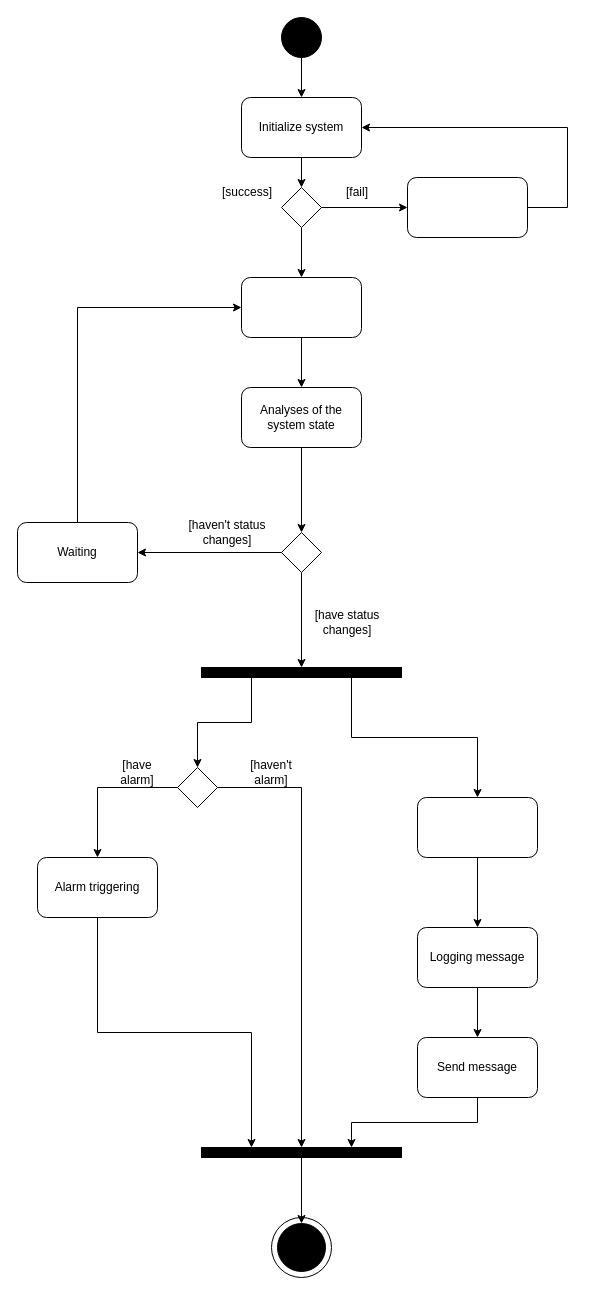
The diagram is 593 pixels wide and 1295 high, and some of its shapes have lost their labels. Each missing label, with the box of its shape:
Create message: (416, 796, 538, 858)
Error message: (406, 176, 528, 238)
Read data from sensors: (240, 276, 362, 338)
